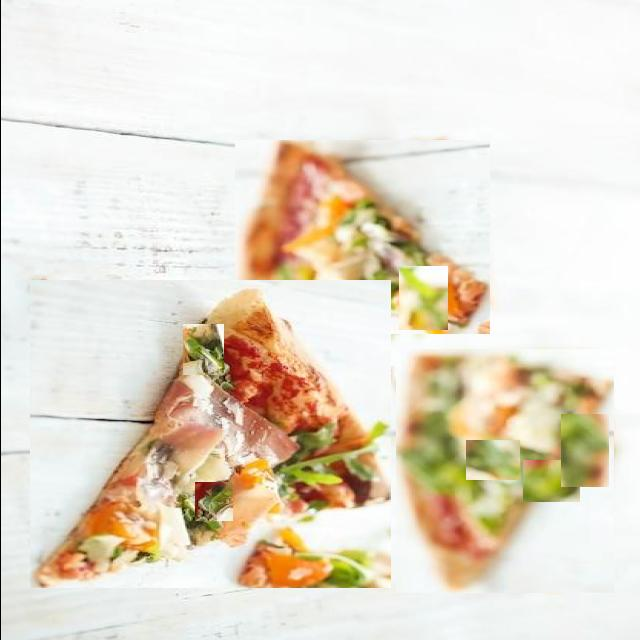basil: (271, 346, 388, 455), (292, 200, 383, 278), (560, 414, 608, 487), (398, 266, 447, 330), (522, 460, 579, 502), (465, 440, 519, 480), (182, 324, 223, 375), (496, 482, 532, 538), (194, 482, 232, 521), (550, 361, 580, 410), (327, 281, 370, 313), (108, 299, 158, 324)
pizza: (29, 280, 390, 588), (395, 349, 613, 593), (234, 140, 489, 334)
